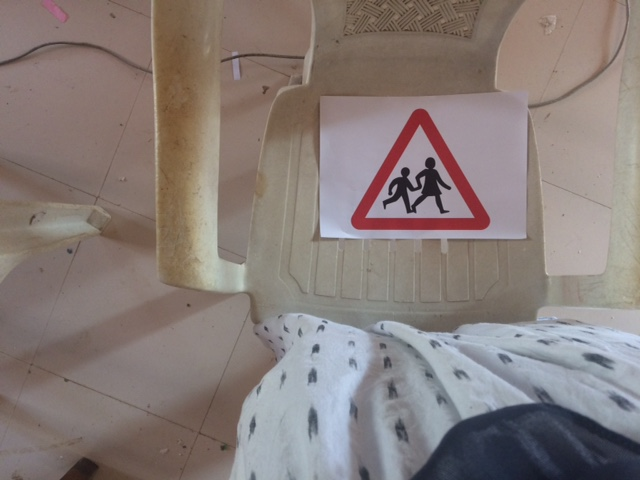sign: (351, 106, 492, 232)
